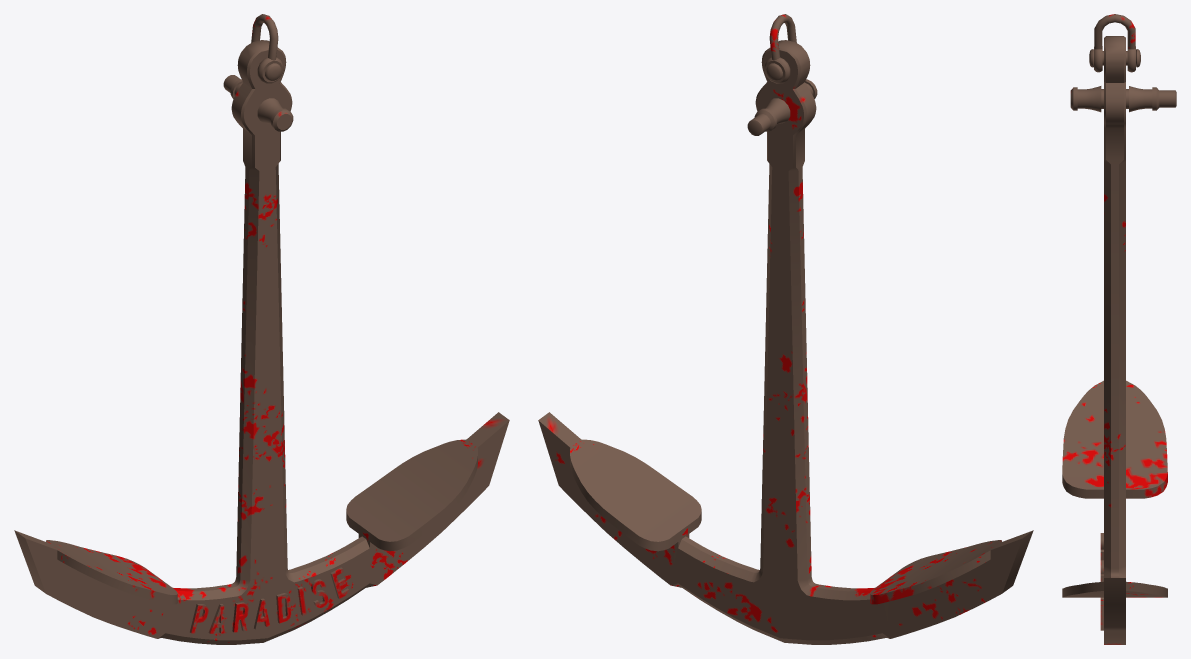
File: ParadiseAnchor00.fbx
3 views of the same model, side by side, from view 1: azimuth 30°, elevation 25°; view 2: azimuth 150°, elevation 25°; view 3: azimuth 270°, elevation 25° (orthographic).
Visible parts, largest first — view 1: anchor; view 2: anchor; view 3: anchor.
Part boxes in pixels (x1=…): anchor: x1=14, y1=14, x2=509, y2=644; anchor: x1=538, y1=14, x2=1033, y2=644; anchor: x1=1062, y1=14, x2=1176, y2=644.
Bounding box in the file's own units: 2.36 × 2.91 × 0.4922.
